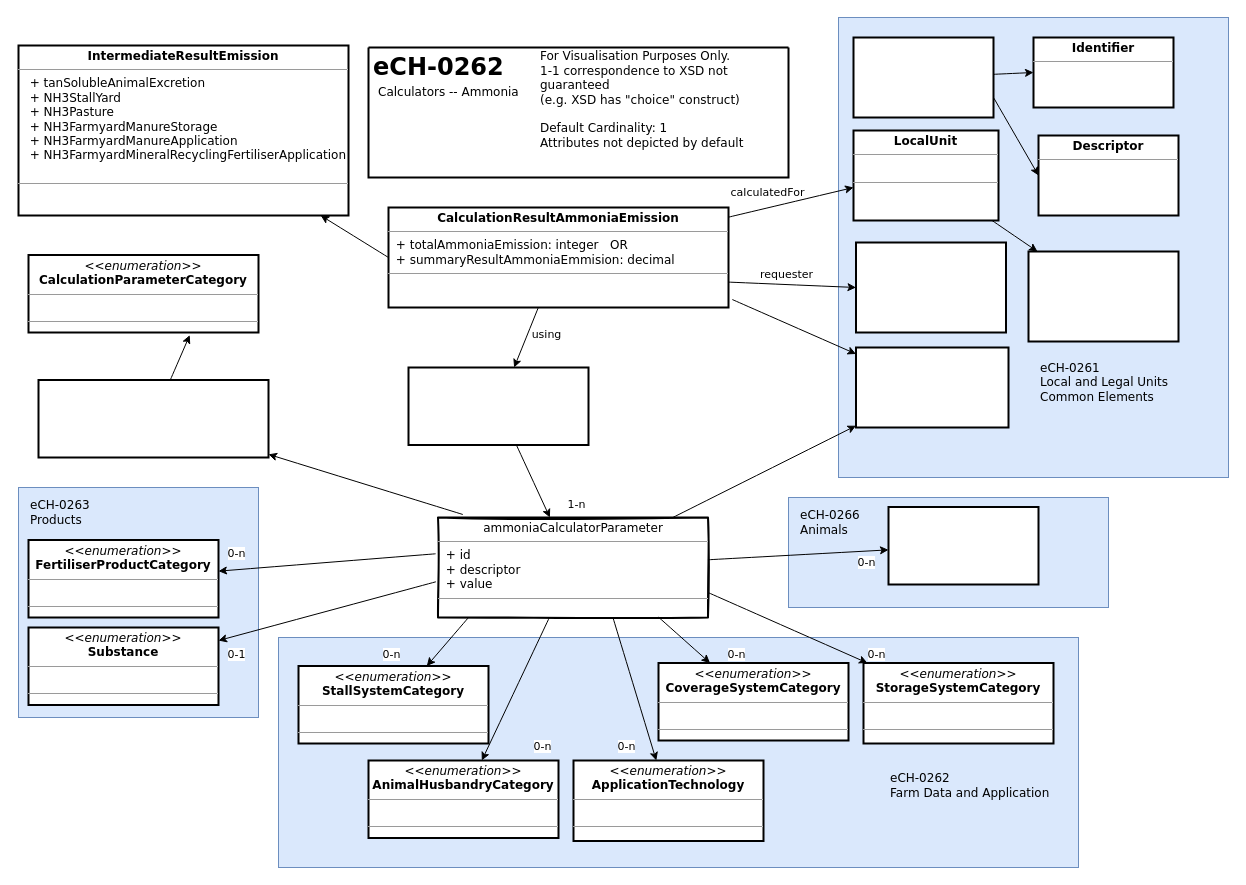
This 1246x885 diagram has some shape labels left out. The shapes that lost their labels are listed below. From the top down, each one's box as (x1, y1, x2, y2) in pixels, then its label:
(852, 36, 994, 118): EnumeratedItem
(854, 241, 1006, 333): Person
(1027, 250, 1179, 342): LegalUnit
(407, 366, 589, 446): <<enumeration>> CalculatorAmmonia + item: EnumeratedItem
(854, 346, 1009, 428): <<enumeration>> Unit
(37, 378, 269, 458): <<enumeration>> CalculationParameterType
(887, 506, 1039, 585): <<enumeration>> AnimalCategoryPRIF
